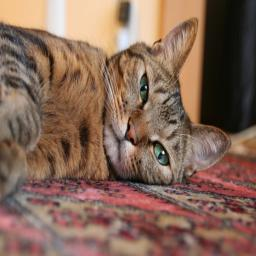catnose: (126, 120, 138, 146)
